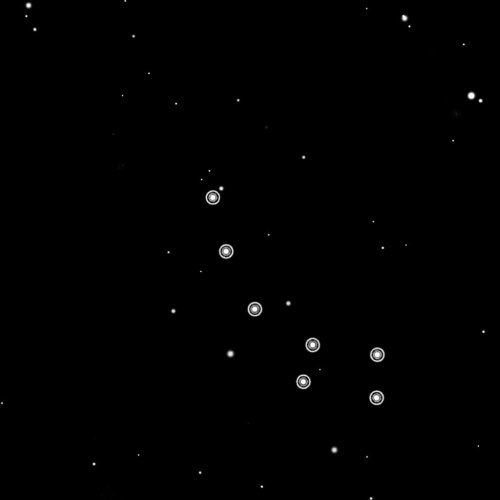ursa_minor: (199, 183, 392, 410)
